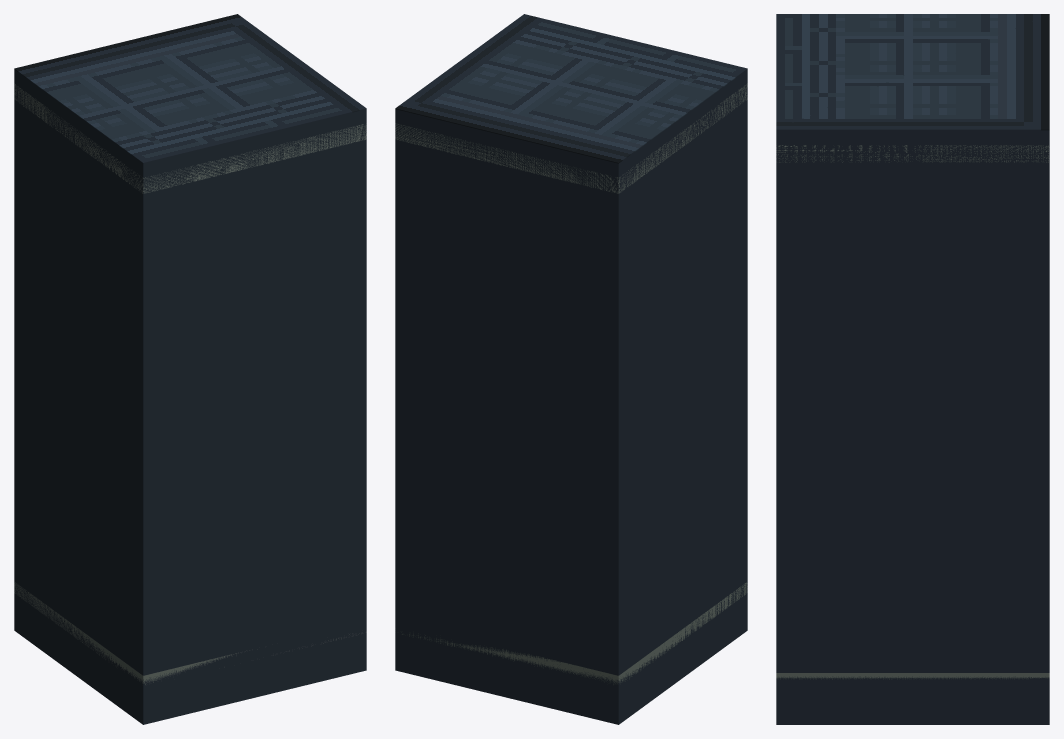
The model's file is CMU3DInteriorVehicleBoxVanExterior3.glb.
3 views of the same model, side by side, from view 1: azimuth 30°, elevation 25°; view 2: azimuth 150°, elevation 25°; view 3: azimuth 270°, elevation 25° (orthographic). The views are drawn at different scales.
Parts seen in each view (by area): view 1: cabin bulkhead, cabin bulkhead source finish, upper armor trim, lower armor trim; view 2: cabin bulkhead, cabin bulkhead source finish, upper armor trim, lower armor trim; view 3: cabin bulkhead, cabin bulkhead source finish, lower armor trim, upper armor trim.
Part boxes in pixels (x1,y1,x2,y2): cabin bulkhead: [14, 69, 366, 724]; cabin bulkhead source finish: [14, 14, 366, 163]; upper armor trim: [14, 83, 366, 193]; lower armor trim: [14, 582, 366, 684]; cabin bulkhead: [395, 69, 747, 724]; cabin bulkhead source finish: [395, 14, 747, 163]; upper armor trim: [395, 83, 747, 193]; lower armor trim: [401, 582, 747, 684]; cabin bulkhead: [776, 130, 1049, 724]; cabin bulkhead source finish: [776, 14, 1049, 130]; lower armor trim: [776, 673, 1049, 679]; upper armor trim: [776, 145, 1049, 162].
Bounding box in the file's own units: 1 × 2.4 × 1.
4 materials, 1 textured.
